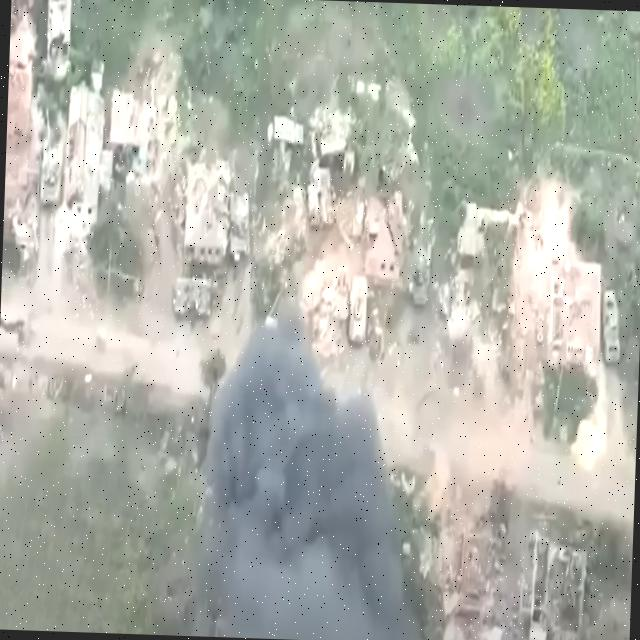AIFV: (349, 274, 371, 350)
APC: (600, 290, 624, 369)
MBT: (38, 108, 67, 211), (227, 160, 255, 264), (171, 277, 229, 322), (407, 221, 433, 312)
